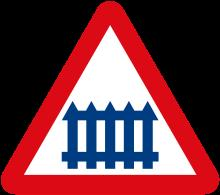Barrier Ahead: (5, 11, 212, 189)
